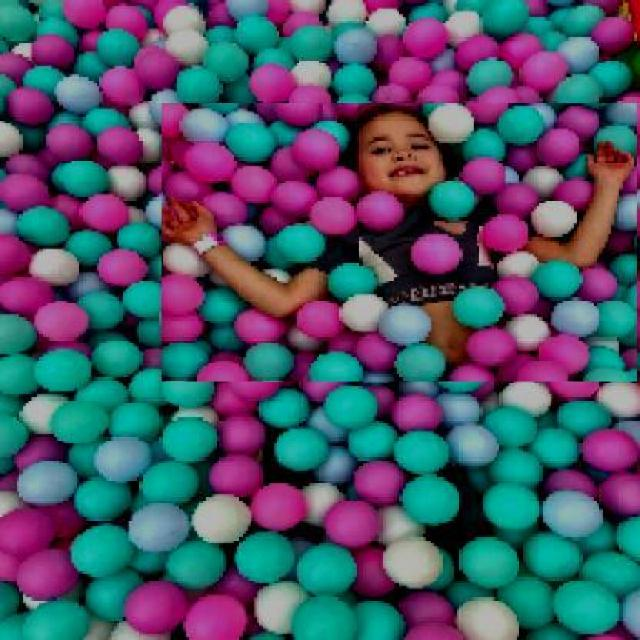child: (160, 103, 637, 383)
